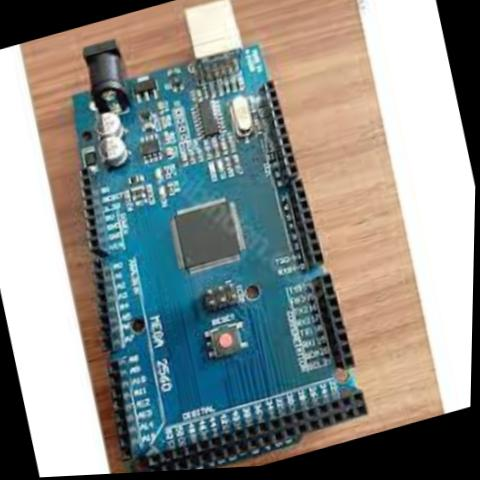Arduino-Mega: (17, 0, 390, 479)
